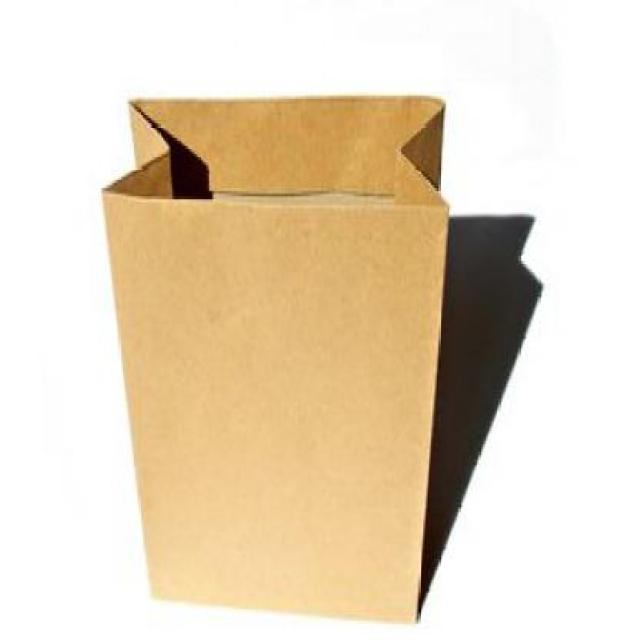box: (95, 77, 456, 621)
